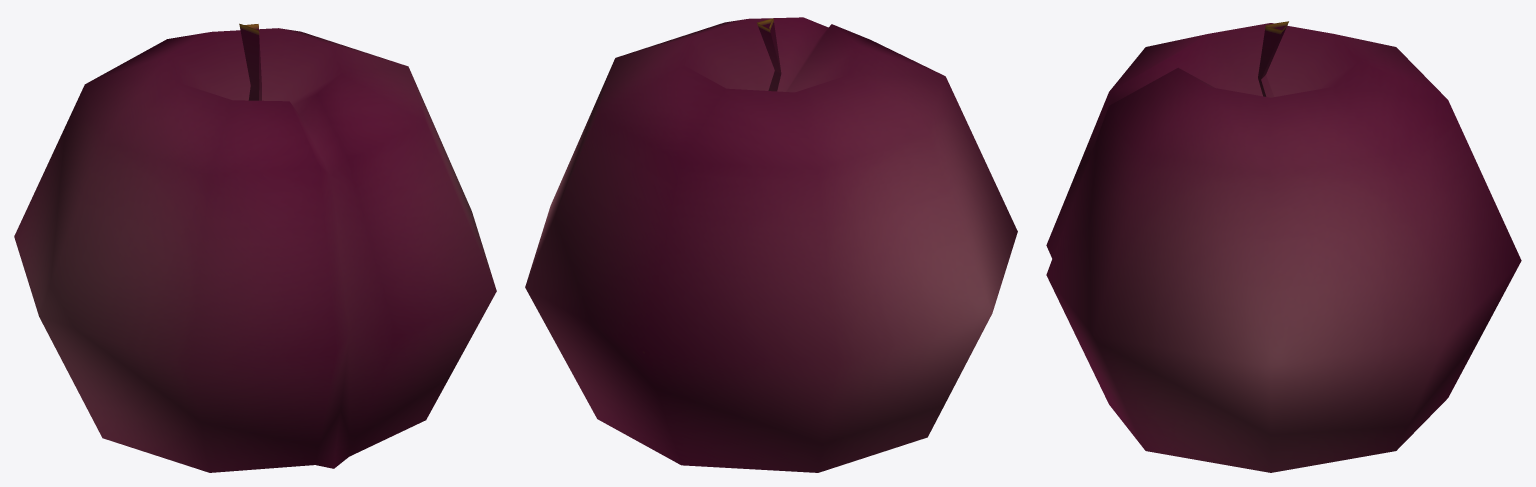
The model's file is Plum.FBX.
3 views of the same model, side by side, from view 1: azimuth 30°, elevation 25°; view 2: azimuth 150°, elevation 25°; view 3: azimuth 270°, elevation 25° (orthographic). The views are drawn at different scales.
Visible parts, largest first — view 1: Plum; view 2: Plum; view 3: Plum.
Part boxes in pixels (bbox=[...]): Plum: bbox=[14, 23, 496, 472]; Plum: bbox=[525, 17, 1017, 472]; Plum: bbox=[1046, 21, 1521, 472].
Size of the model in its own units: 5.28 by 4.81 by 5.
